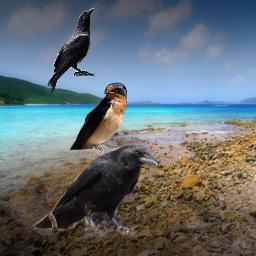Crow: (29, 143, 159, 241), (47, 7, 95, 93)
Swallow: (69, 82, 127, 157)
